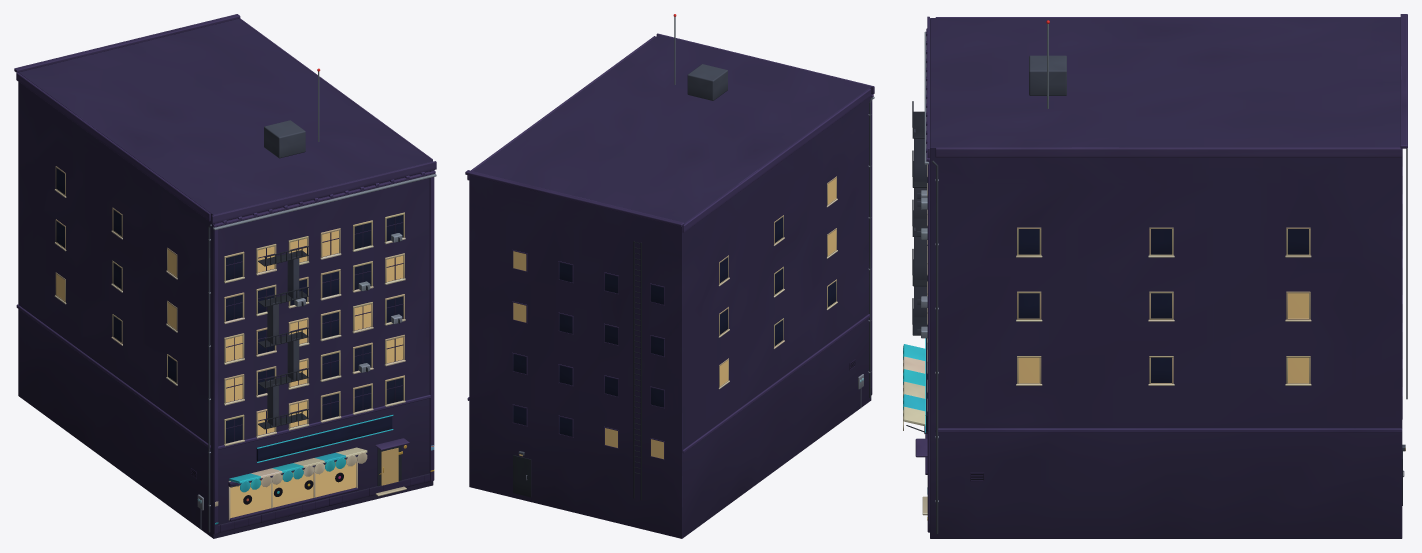
Rendered from SM_City_Bld_Records.fbx.
The picture shows the model from 3 angles, left to right: view 1: azimuth 30°, elevation 25°; view 2: azimuth 150°, elevation 25°; view 3: azimuth 270°, elevation 25°; orthographic projection. The views are drawn at different scales.
Visible parts, largest first — view 1: SM_City_Bld_Records; view 2: SM_City_Bld_Records; view 3: SM_City_Bld_Records.
Part boxes in pixels (left/top/right/bottom): SM_City_Bld_Records: left=14, top=14, right=436, bottom=538; SM_City_Bld_Records: left=465, top=14, right=874, bottom=538; SM_City_Bld_Records: left=903, top=14, right=1407, bottom=538.
Bounding box in the file's own units: 1327 × 2242 × 2137.
